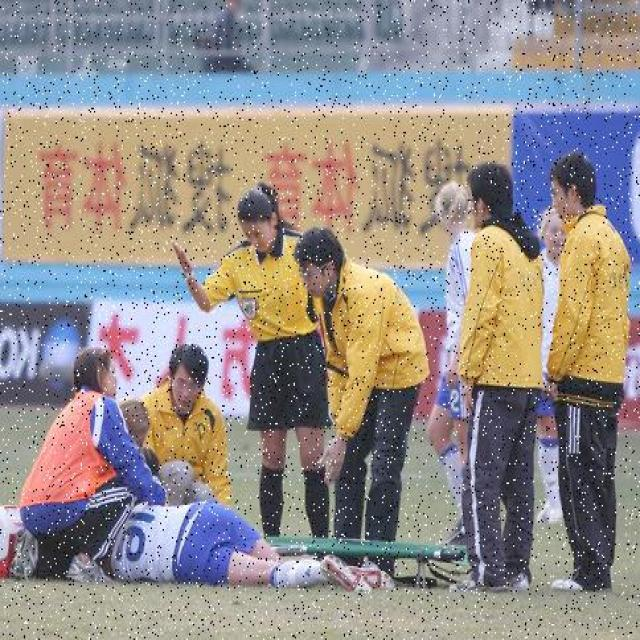fall: (106, 497, 399, 595)
